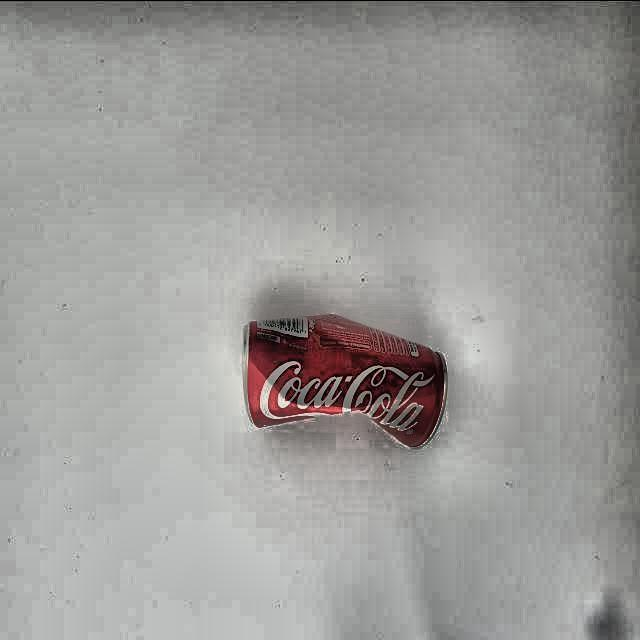metal: (244, 315, 447, 449)
